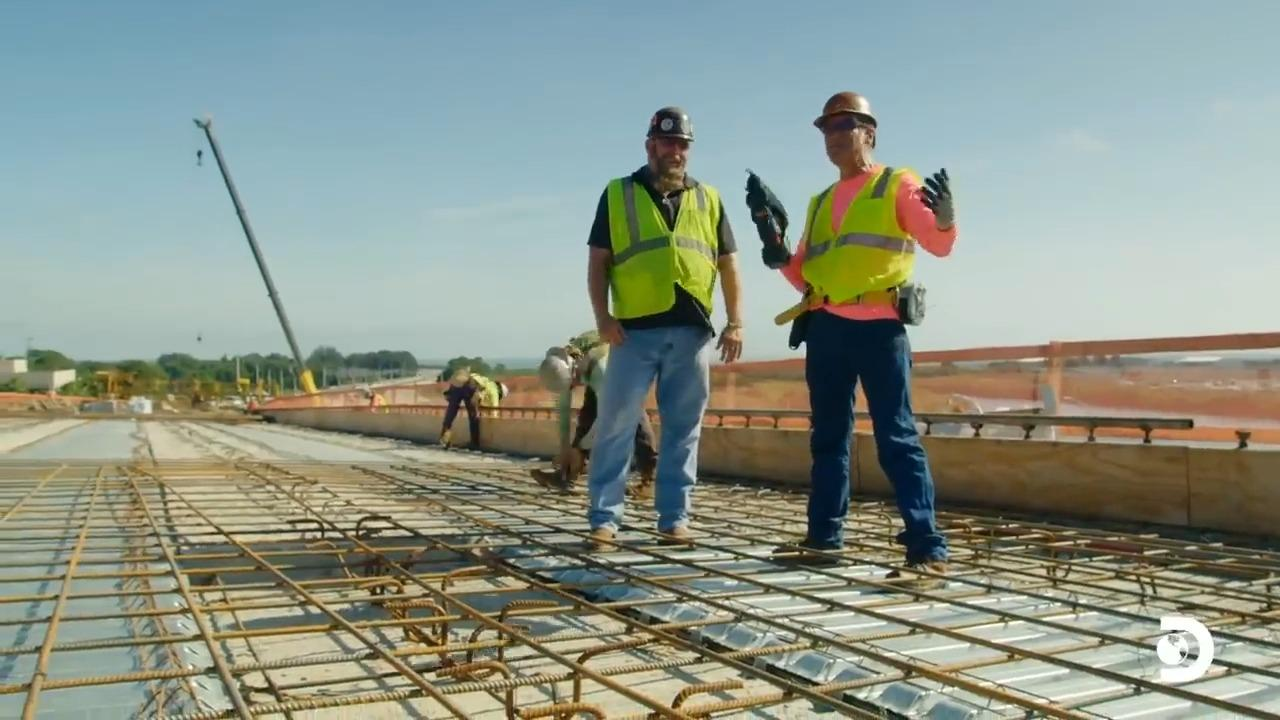Gloves: (920, 167, 959, 238)
Helmet: (639, 103, 701, 164), (813, 91, 877, 129), (543, 353, 572, 385), (495, 377, 509, 400)
Person: (744, 91, 957, 570), (583, 106, 744, 547), (528, 330, 657, 493), (434, 355, 512, 465)
Safety Boot: (776, 531, 846, 574), (890, 561, 944, 585), (582, 523, 628, 551), (657, 519, 693, 547), (531, 465, 569, 490)
Safety Vest: (612, 188, 720, 315), (807, 199, 905, 293)
bare-arms: (587, 314, 634, 348), (717, 317, 750, 360)
